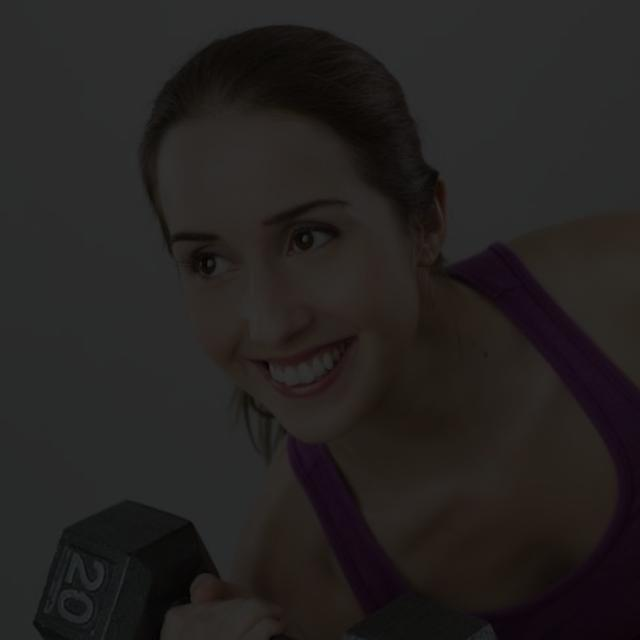Happy: (110, 116, 428, 442)
